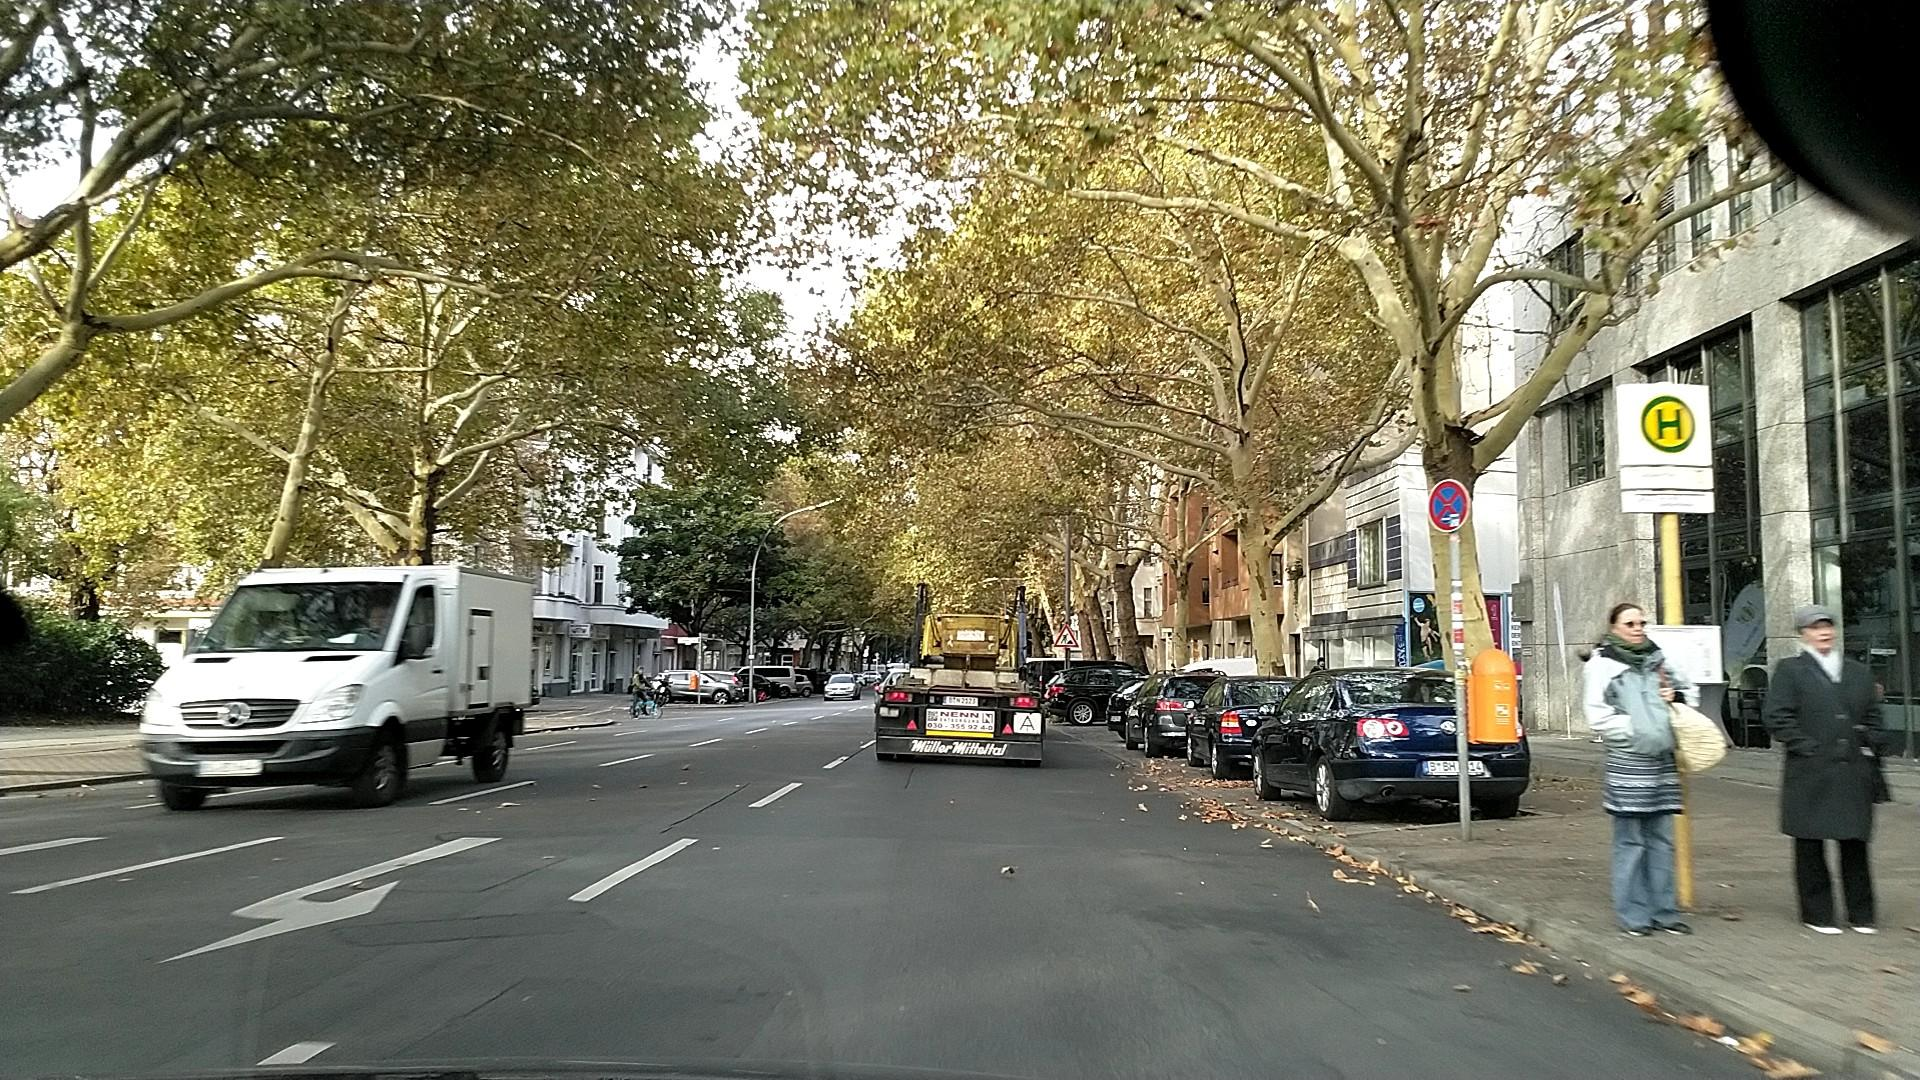Human face: (1796, 610, 1837, 652), (1608, 604, 1647, 644), (369, 607, 385, 628), (638, 667, 644, 675)
Vehicle registration plate: (1421, 760, 1485, 776), (194, 761, 262, 776), (942, 695, 978, 708)
